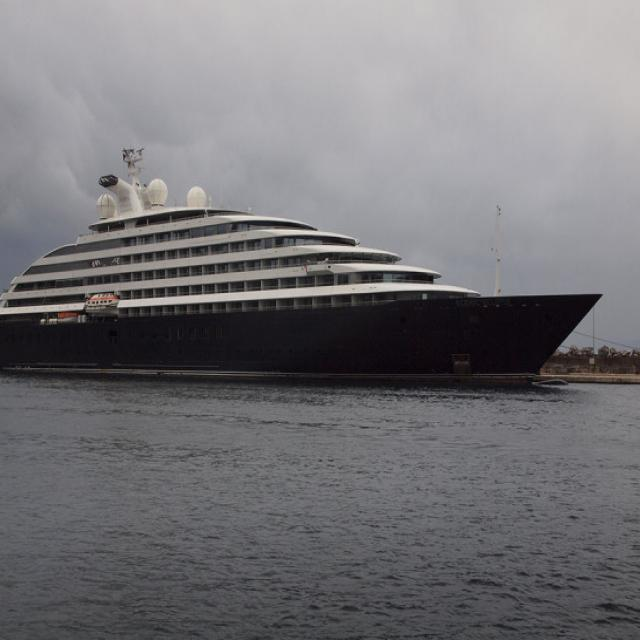cruises: (1, 124, 609, 395)
